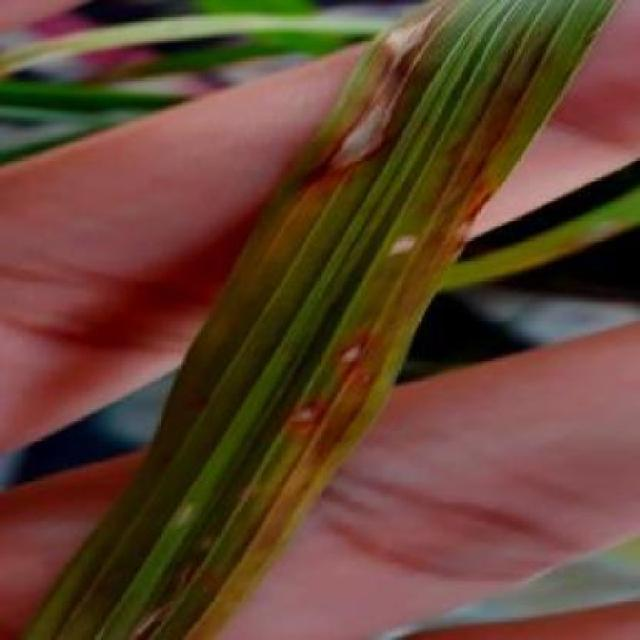Bacterial_Leaf_Blight: (286, 78, 416, 178), (346, 0, 457, 91), (98, 587, 186, 640), (319, 329, 396, 388), (260, 390, 343, 444), (376, 214, 432, 266), (219, 474, 270, 512)
